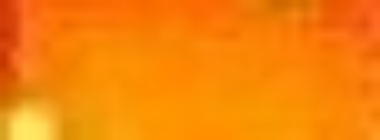Hotspot: (6, 97, 70, 140)
